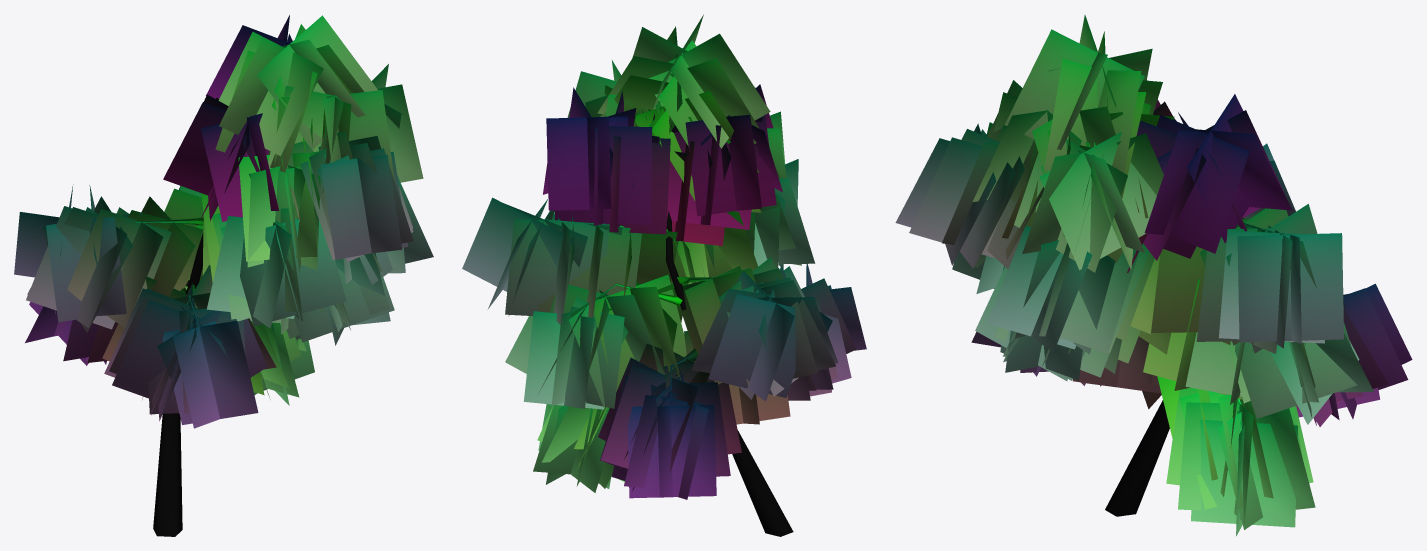
The model's file is URP_P13_Tree_4_LOD_3.fbx.
3 renders of one model, left to right at view 1: azimuth 30°, elevation 25°; view 2: azimuth 150°, elevation 25°; view 3: azimuth 270°, elevation 25°, orthographic. The views are drawn at different scales.
Visible parts, largest first — view 1: Tree_4_LOD_3; view 2: Tree_4_LOD_3; view 3: Tree_4_LOD_3.
Boxes of the visible parts, x1,y1,x2,y2 form: Tree_4_LOD_3: (14,15,433,536); Tree_4_LOD_3: (462,14,866,536); Tree_4_LOD_3: (895,15,1412,536).
Bounding box in the file's own units: 435 × 580 × 504.
